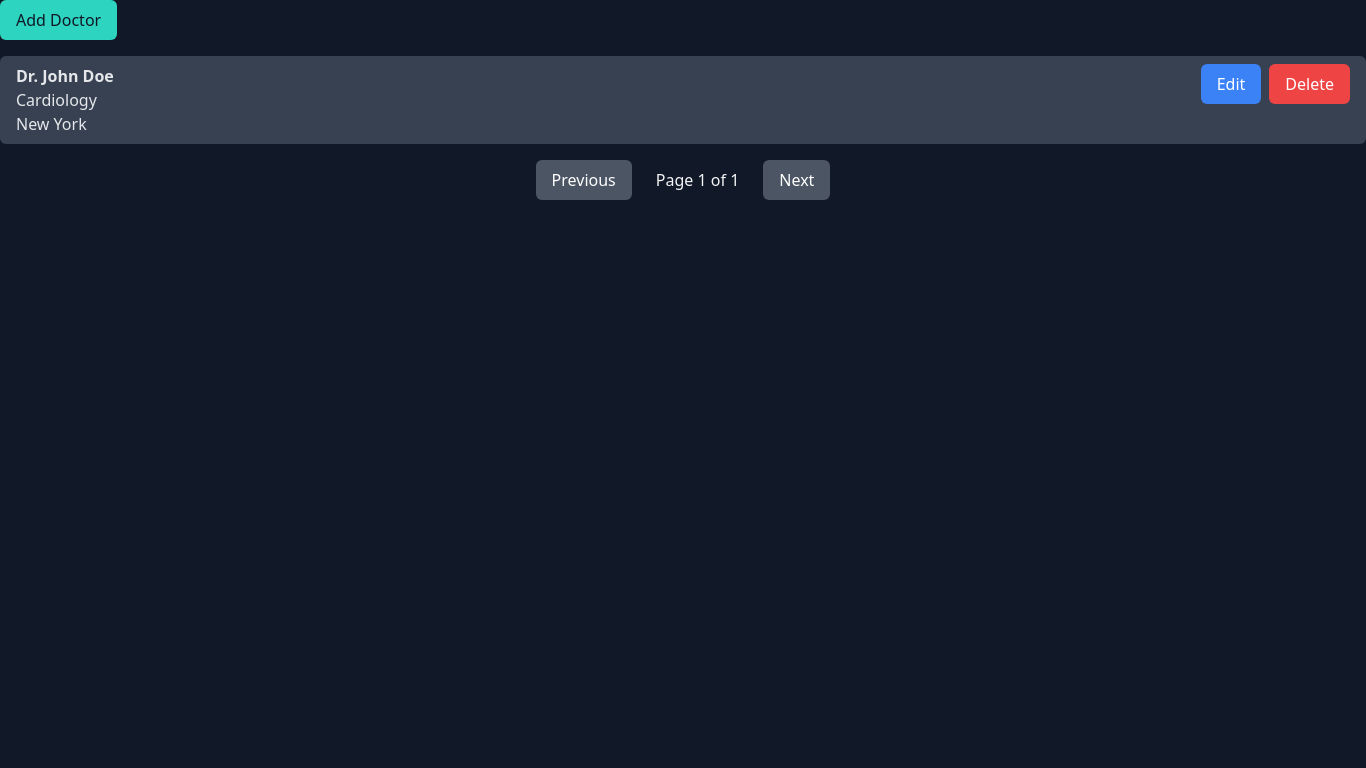
Test: DoctorList Component › handles edit doctor functionality
The image size is (1366, 768).
Check: the text "Dr. John Doe" is shown, box [16,65,114,87]
Click the button "Edit".
click(1231, 84)  # box [1201,64,1261,104]
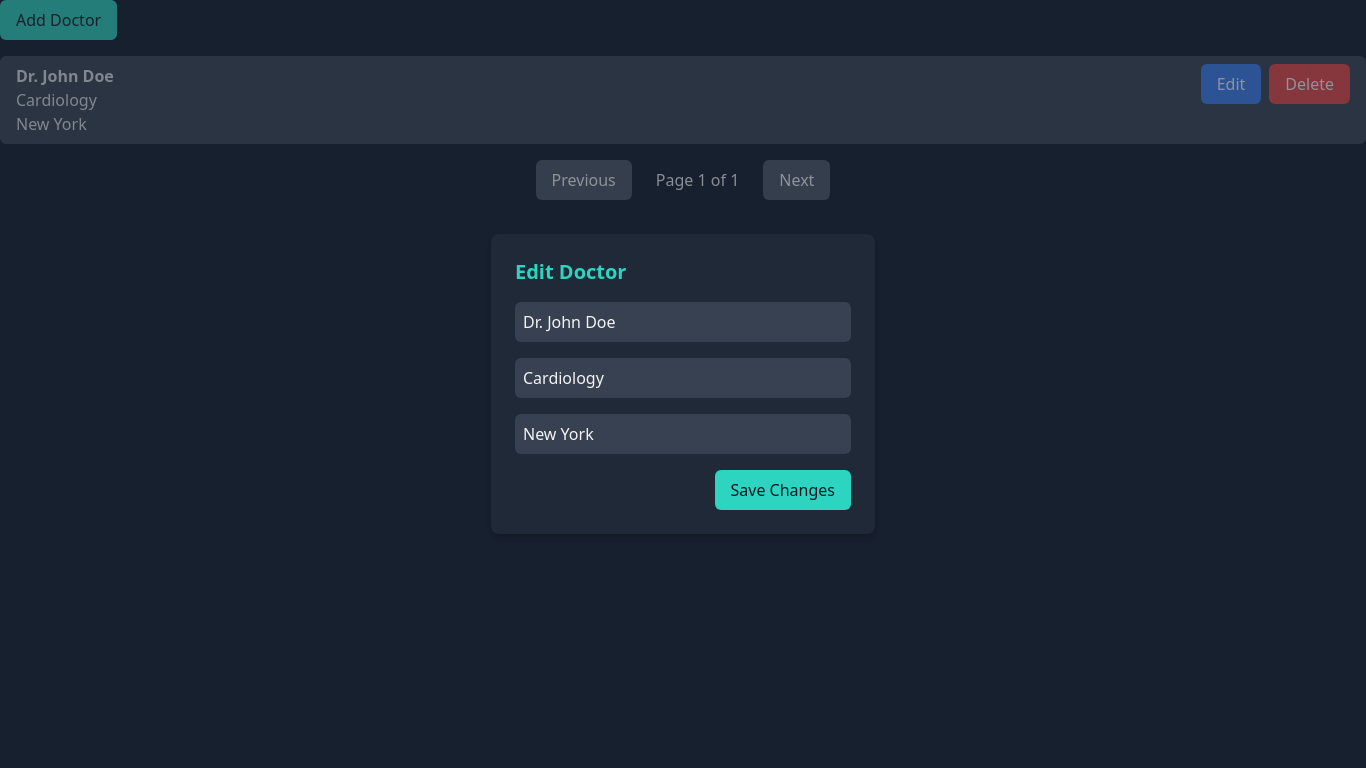
Replace the text in the 1st field with placeholder "Doctor's Name" with "Dr. John Updated" at (683, 322), box [515,302,851,342]
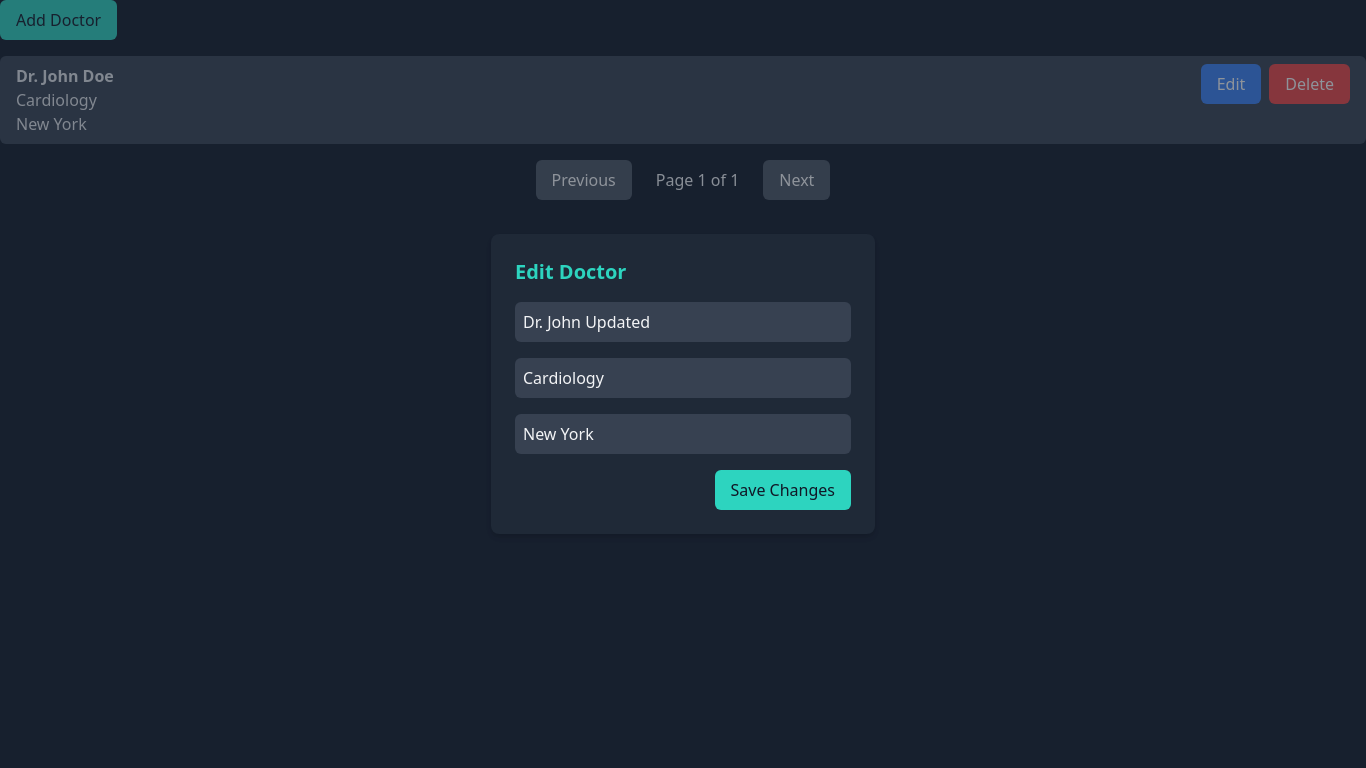
Click the button "Save Changes".
click(783, 490)  # box [714,470,851,510]
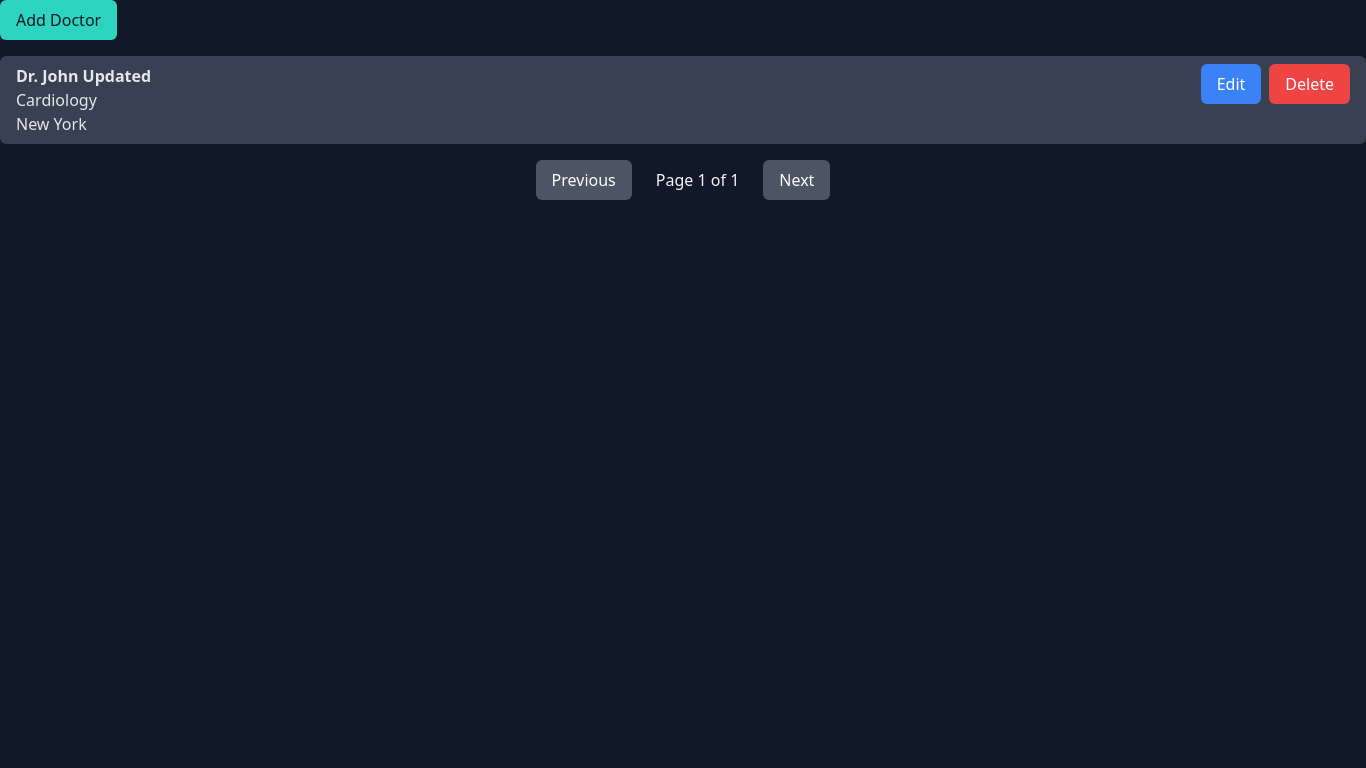
Check: the text "Dr. John Updated" is shown, box [16,65,151,87]
